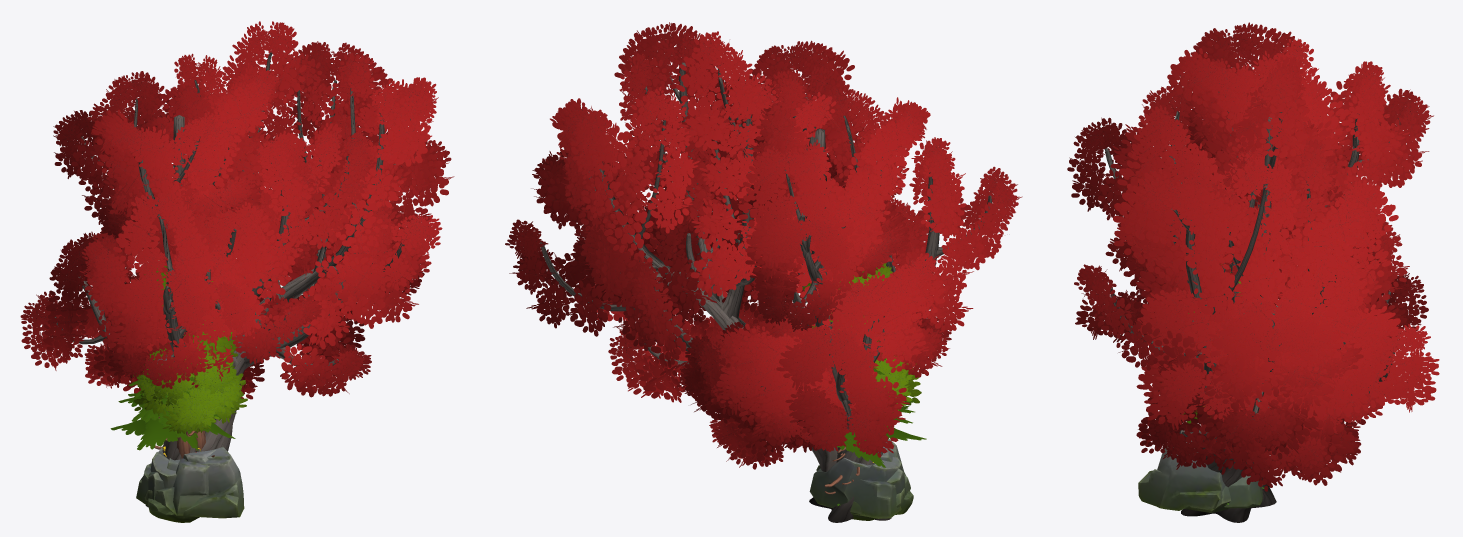
Rendered from nature.glb.
3 renders of one model, left to right at view 1: azimuth 30°, elevation 25°; view 2: azimuth 150°, elevation 25°; view 3: azimuth 270°, elevation 25°, orthographic. The views are drawn at different scales.
Visible parts, largest first — view 1: TwistedTree_3, TwistedTree_1, CommonTree_1, Rock_Medium_3, CommonTree_2, Rock_Medium_1, Pine_1, Rock_Medium_2; view 2: TwistedTree_1, TwistedTree_3, Rock_Medium_2, Pine_1, CommonTree_2, Rock_Medium_3; view 3: TwistedTree_1, TwistedTree_3, Rock_Medium_3, Rock_Medium_2.
Part boxes in pixels (x1,y1,x2,y2): TwistedTree_3: [20, 53, 376, 460]; TwistedTree_1: [105, 21, 454, 507]; CommonTree_1: [133, 334, 247, 433]; Rock_Medium_3: [148, 447, 244, 522]; CommonTree_2: [136, 320, 245, 449]; Rock_Medium_1: [144, 450, 215, 515]; Pine_1: [110, 336, 242, 457]; Rock_Medium_2: [136, 445, 176, 505]; TwistedTree_1: [505, 22, 927, 522]; TwistedTree_3: [676, 40, 1022, 469]; Rock_Medium_2: [809, 457, 901, 518]; Pine_1: [824, 340, 926, 487]; CommonTree_2: [812, 325, 920, 410]; Rock_Medium_3: [816, 451, 913, 514]; TwistedTree_1: [1074, 56, 1439, 522]; TwistedTree_3: [1067, 22, 1433, 479]; Rock_Medium_3: [1138, 441, 1225, 510]; Rock_Medium_2: [1224, 475, 1262, 508].
Bounding box in the file's own units: 15.83 × 16.84 × 11.71.
Materials: 10 (10 with a texture image).
